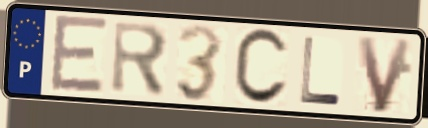3: (173, 22, 229, 104)
C: (231, 26, 291, 109)
E: (48, 12, 111, 95)
L: (298, 34, 344, 108)
R: (109, 19, 172, 100)
V: (354, 34, 416, 116)
